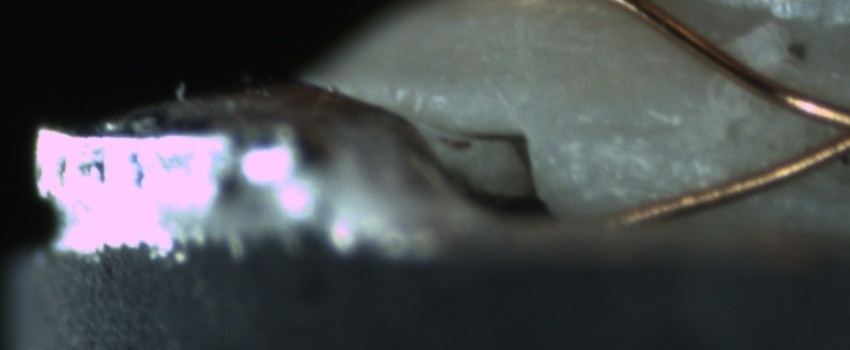CL: (800, 86, 850, 169)
DL: (560, 101, 695, 159)
